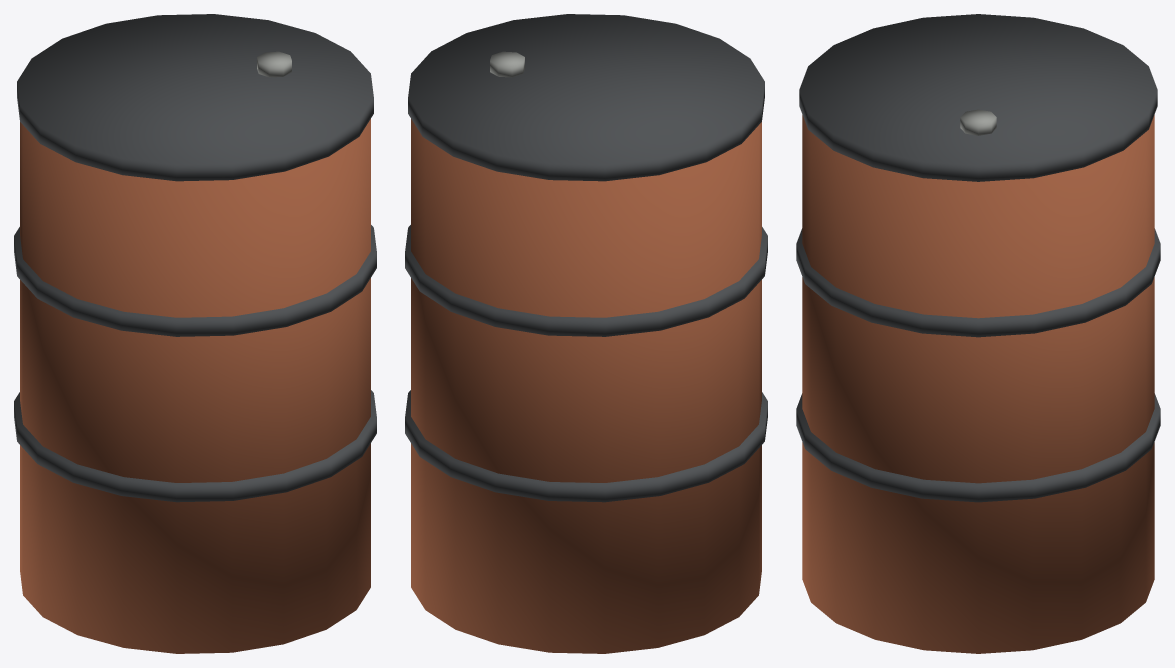
Rendered from steel_drum.glb.
3 renders of one model, left to right at view 1: azimuth 30°, elevation 25°; view 2: azimuth 150°, elevation 25°; view 3: azimuth 270°, elevation 25°, orthographic.
Parts seen in each view (by area): view 1: steel_drum; view 2: steel_drum; view 3: steel_drum.
Part boxes in pixels (x1=…): steel_drum: x1=14, y1=14, x2=376, y2=653; steel_drum: x1=405, y1=14, x2=767, y2=653; steel_drum: x1=796, y1=14, x2=1160, y2=653.
Bounding box in the file's own units: 0.6 × 0.91 × 0.6.
